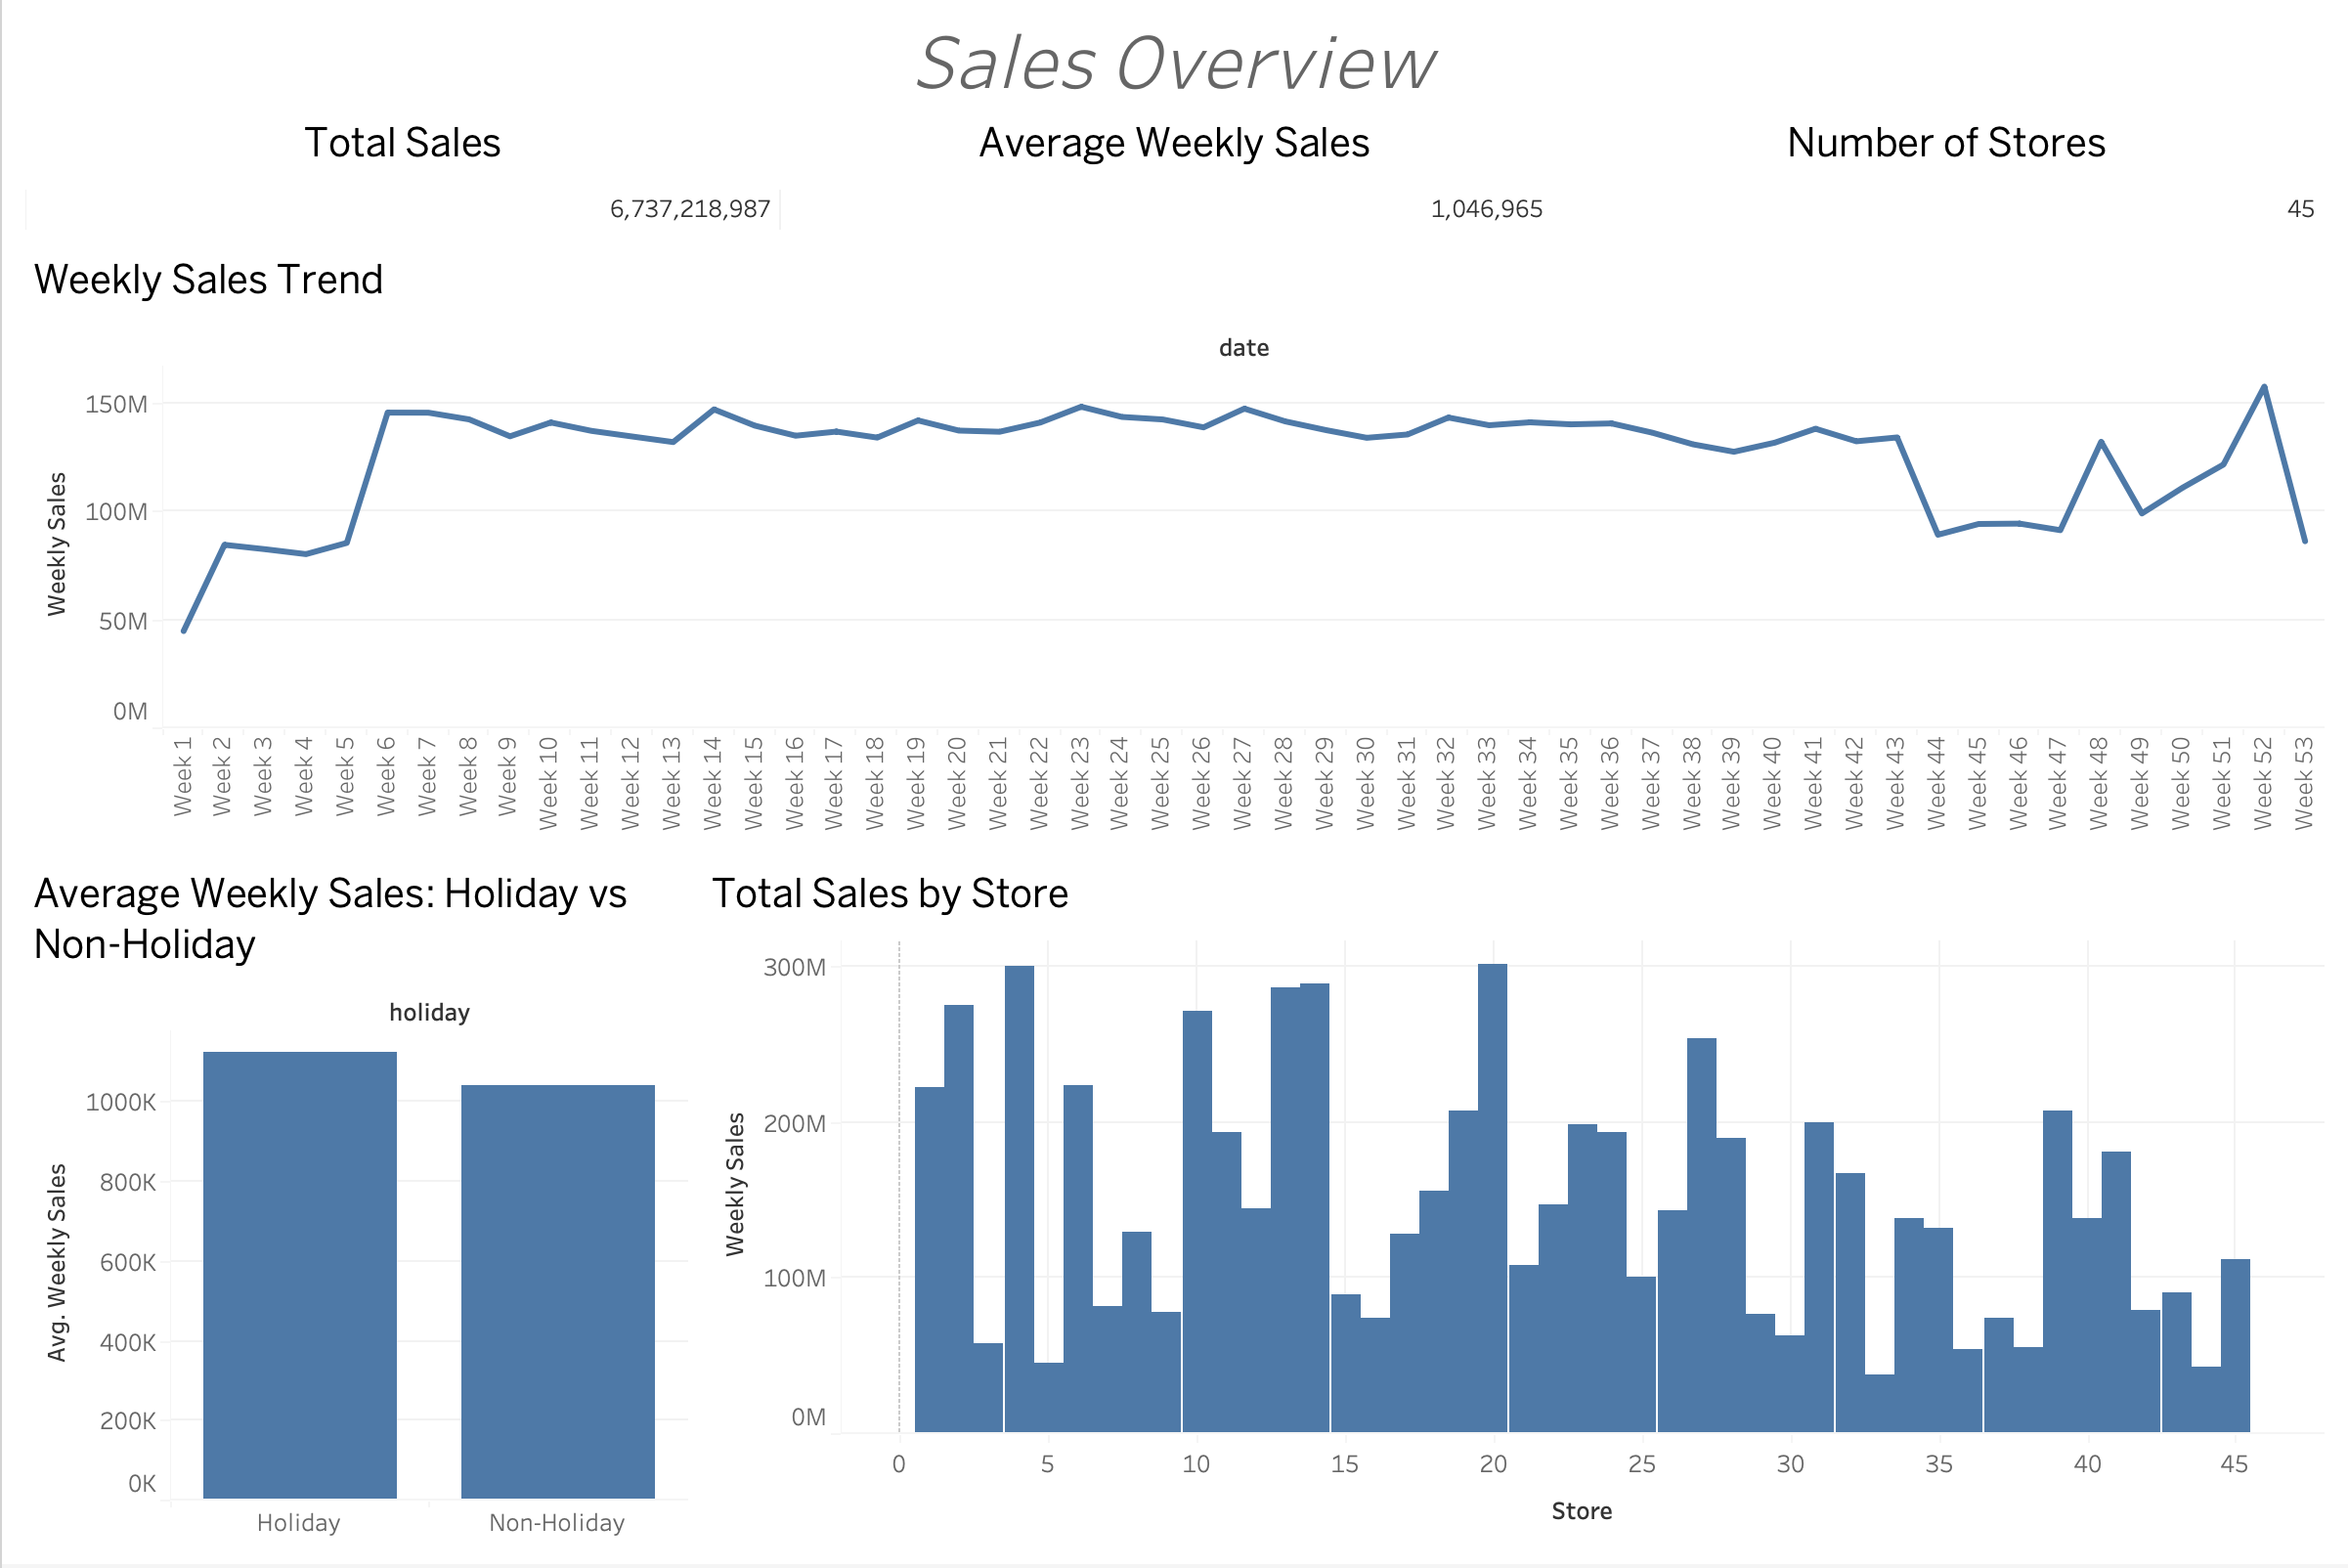

This screenshot's page, from the dashboard's own definition file:
{"tool":"tableau","page":{"name":"Sales Overview","canvas":[1200,800],"ordinal":1},"visuals":[{"type":"text","box":[8,8,1184,44]},{"type":"worksheet","title":"Sheet 1","mark":"Automatic","box":[8,52,395.3,70]},{"type":"worksheet","title":"Sheet 2","mark":"Automatic","box":[403.3,52,394.3,70]},{"type":"worksheet","title":"Sheet 3","mark":"Automatic","box":[797.7,52,394.3,70]},{"type":"worksheet","title":"Sheet 4","mark":"Automatic","rows":["Weekly_Sales"],"cols":["Calculation_0106155017875456"],"box":[8,122,1184,314]},{"type":"worksheet","title":"Sheet 6","mark":"Automatic","rows":["Weekly_Sales"],"cols":["Calculation_0106155018661889"],"box":[8,436,347,356]},{"type":"worksheet","title":"Sheet 5","mark":"Bar","rows":["Weekly_Sales"],"cols":["Store"],"box":[355,436,837,356]}]}

Visuals, with their boxes in screenshot pixels (x1, y1, x2, y2), scaled from the page's 1200x800 canvas onto the 2348x1568 screenshot:
text: 16/16/2332/102
"Sheet 1" worksheet: 16/102/789/240
"Sheet 2" worksheet: 789/102/1561/240
"Sheet 3" worksheet: 1561/102/2332/240
"Sheet 4" worksheet: 16/240/2332/854
"Sheet 6" worksheet: 16/854/695/1552
"Sheet 5" worksheet (Bar marks): 695/854/2332/1552
